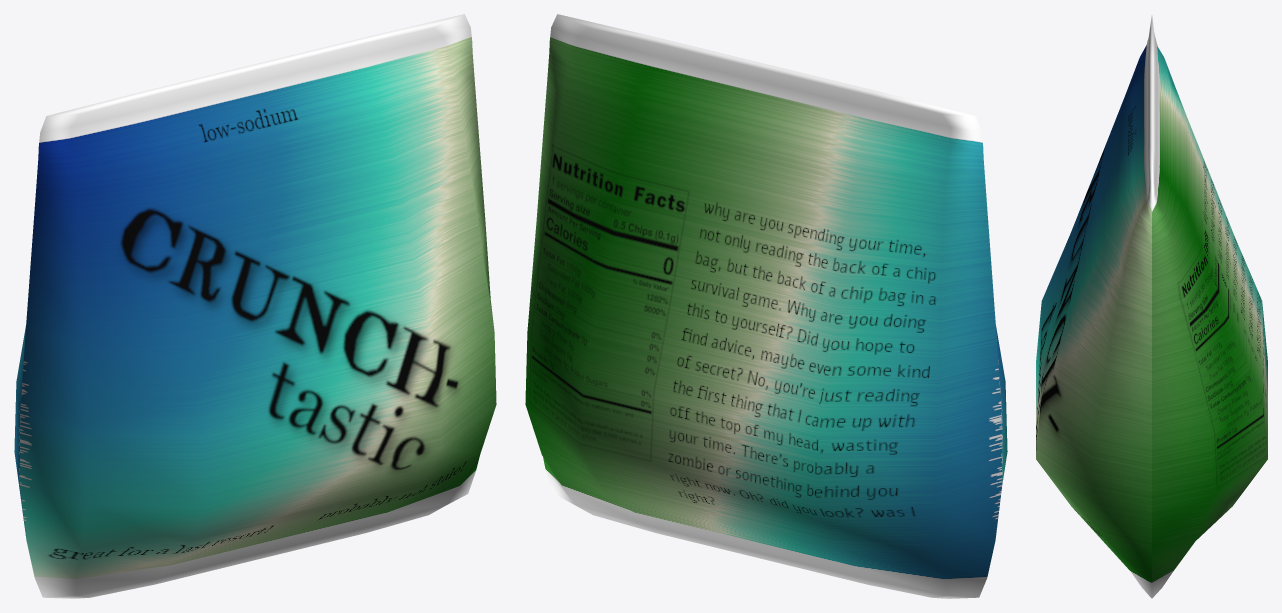
File: Bag of Chips.glb
The picture shows the model from 3 angles, left to right: view 1: azimuth 30°, elevation 25°; view 2: azimuth 150°, elevation 25°; view 3: azimuth 270°, elevation 25°; orthographic projection. The views are drawn at different scales.
Visible parts, largest first — view 1: Chips; view 2: Chips; view 3: Chips.
Part boxes in pixels (box(x1,y1,x2,y2)): Chips: box(14, 14, 496, 598); Chips: box(525, 14, 1007, 598); Chips: box(1036, 15, 1267, 598).
Bounding box in the file's own units: 0.0762 × 0.0762 × 0.0381.
Materials: 1 (1 with a texture image).
